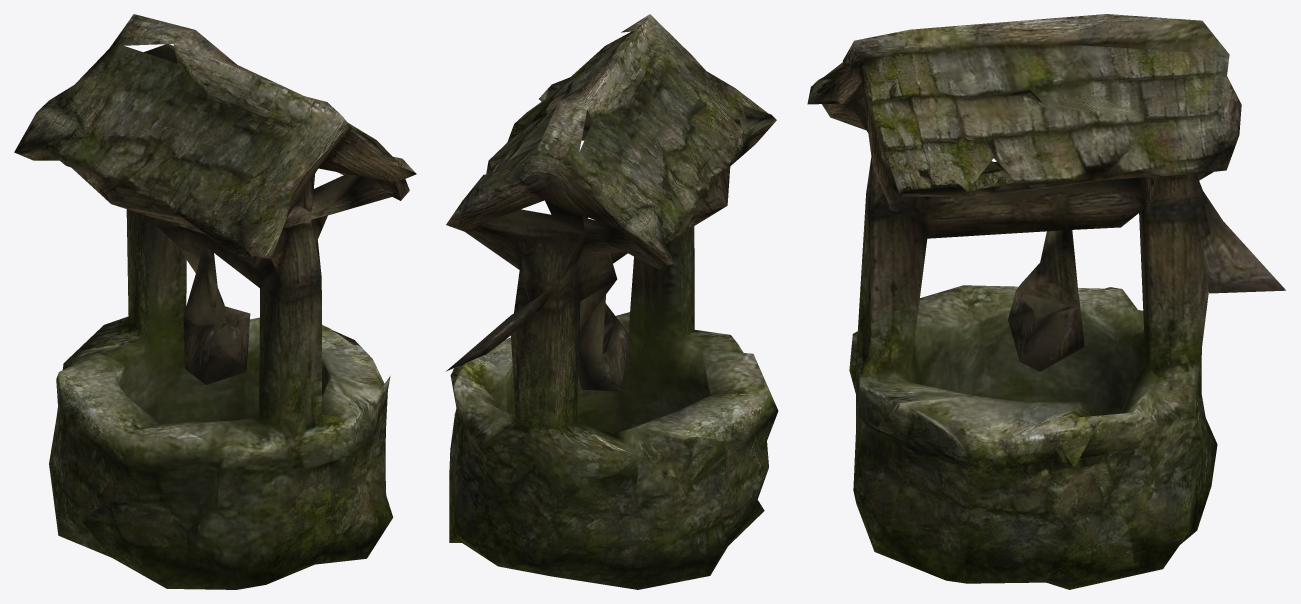
Rendered from well.glb.
3 renders of one model, left to right at view 1: azimuth 30°, elevation 25°; view 2: azimuth 150°, elevation 25°; view 3: azimuth 270°, elevation 25°, orthographic. The views are drawn at different scales.
Parts seen in each view (by area): view 1: tripo_node_fb1907a5-0172-4f4a-bada-910b5717a7bc; view 2: tripo_node_fb1907a5-0172-4f4a-bada-910b5717a7bc; view 3: tripo_node_fb1907a5-0172-4f4a-bada-910b5717a7bc.
Boxes of the visible parts, x1,y1,x2,y2 form: tripo_node_fb1907a5-0172-4f4a-bada-910b5717a7bc: (14, 14, 416, 589); tripo_node_fb1907a5-0172-4f4a-bada-910b5717a7bc: (446, 14, 778, 589); tripo_node_fb1907a5-0172-4f4a-bada-910b5717a7bc: (807, 14, 1285, 589).
Bounding box in the file's own units: 0.6583 × 1 × 0.868.
Materials: 1 (1 with a texture image).
